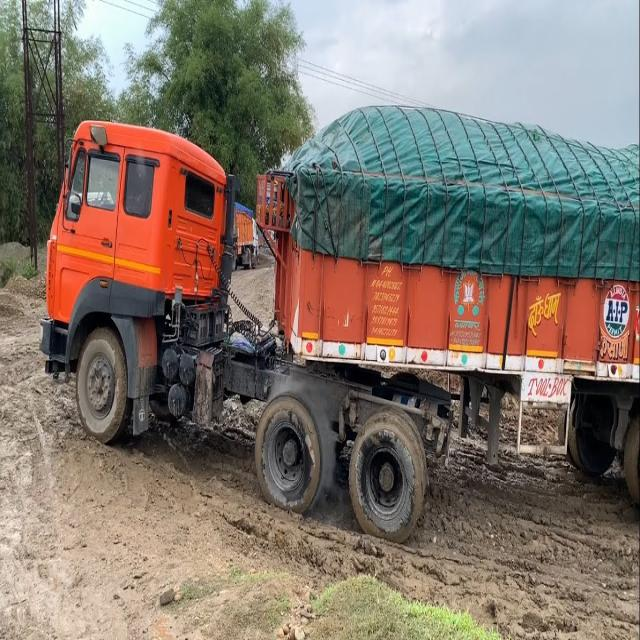truck: (40, 107, 640, 541)
